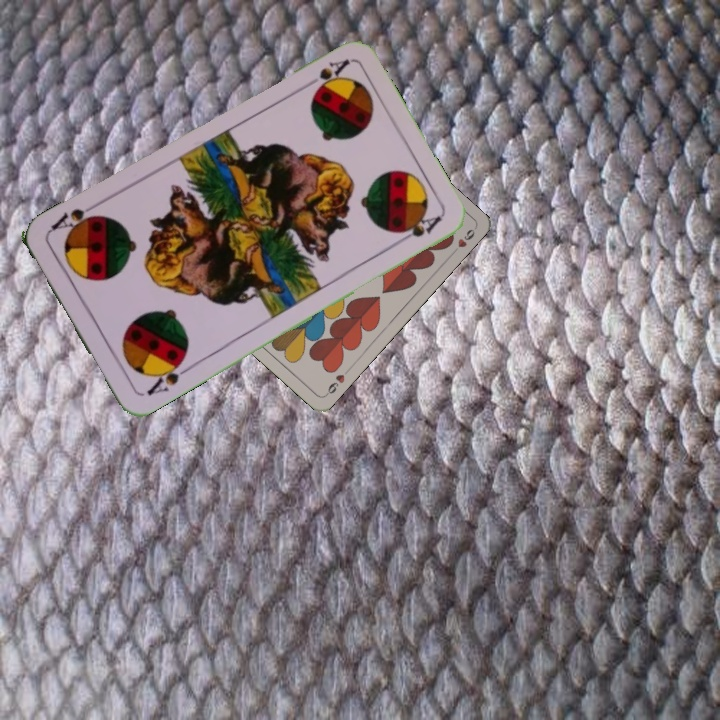H9: (321, 365, 352, 398)
SA: (142, 354, 194, 399), (298, 55, 352, 94)
